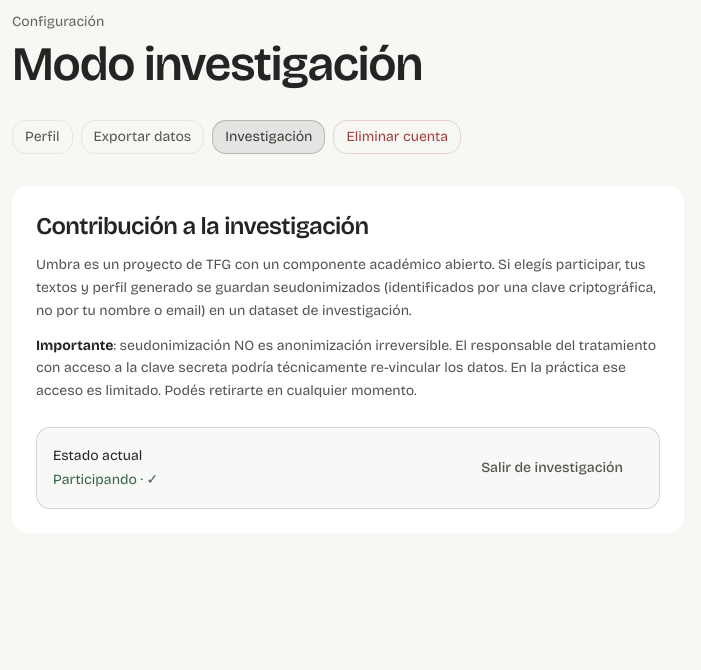
Test: shows an incomplete purge and lets the user retry without restoring participation
The image size is (701, 670).
Click the button "Salir de investigación": [552, 468] box [461,444,643,492]
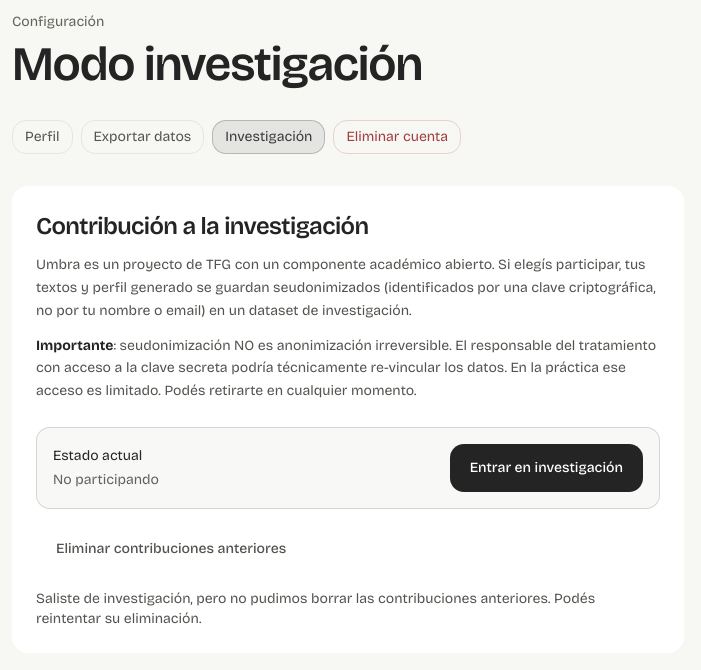
Result: the text "No participando" is shown at [53,470,159,490]
Result: the message shows "no pudimos borrar" at [36,590,595,627]
Click the button "Eliminar contribuciones anteriores": [171, 549] box [36,525,306,573]
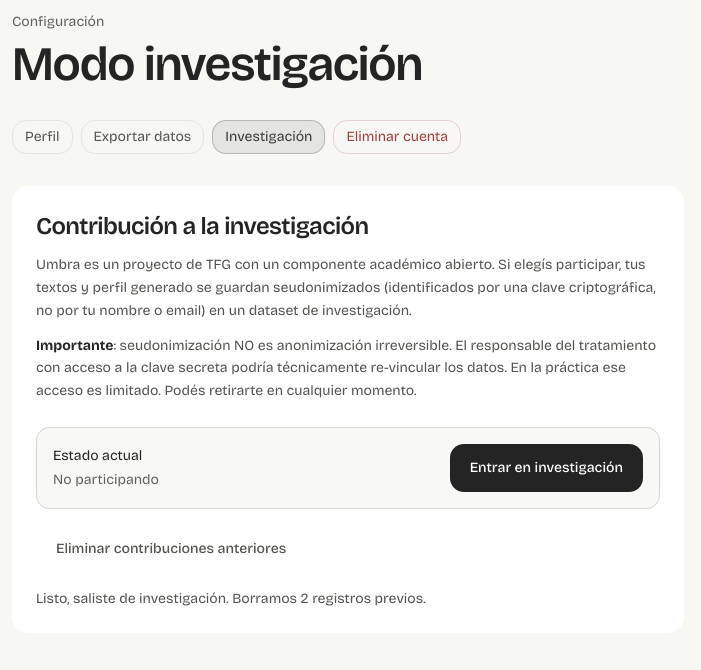
Result: the text "Listo, saliste de investigación. Borramos 2 registros previos." is shown at [36,590,426,607]
